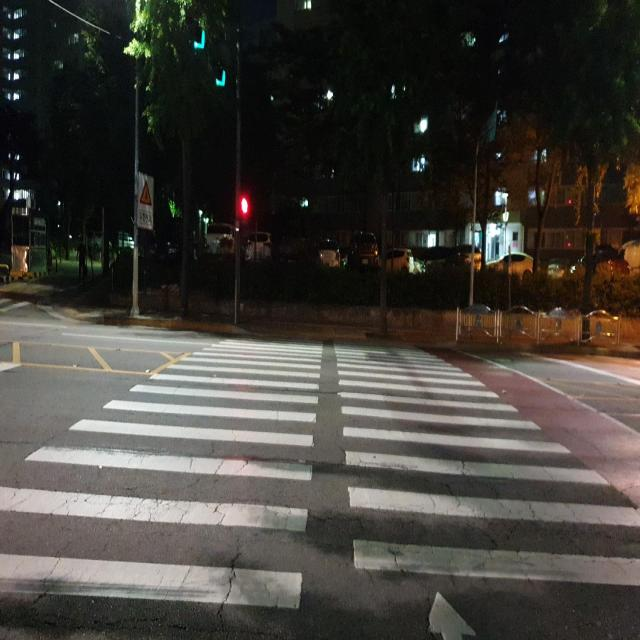빨간불: (239, 190, 251, 242)
횡단보도: (0, 338, 639, 640)
